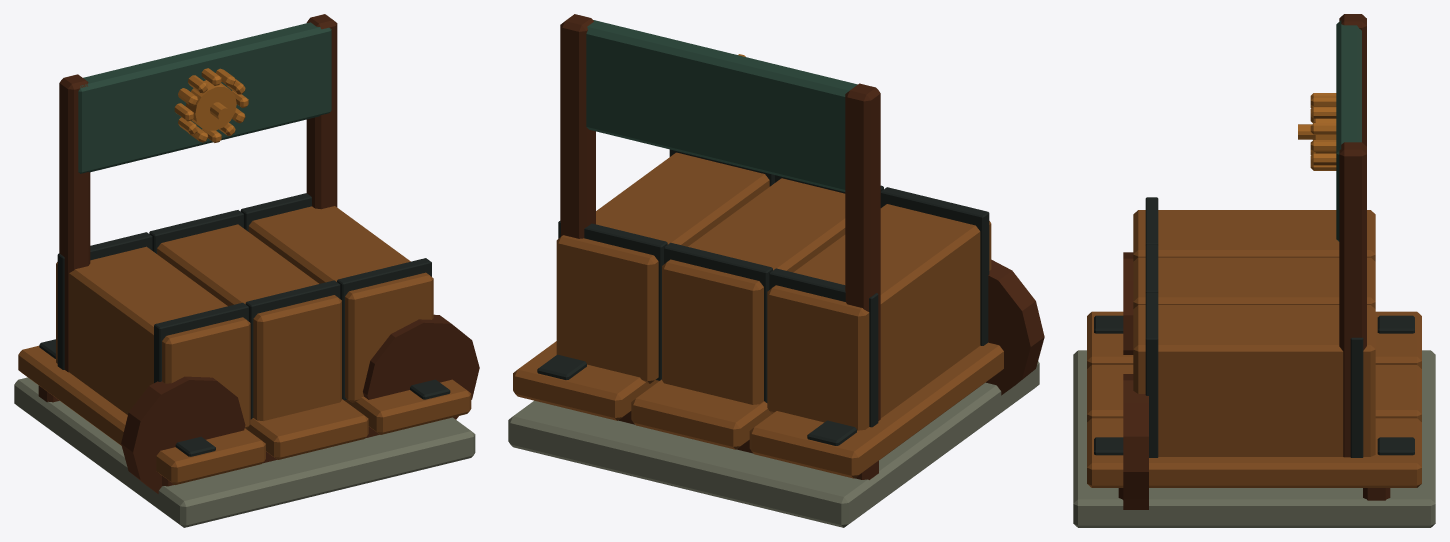
Rendered from depot.glb.
The picture shows the model from 3 angles, left to right: view 1: azimuth 30°, elevation 25°; view 2: azimuth 150°, elevation 25°; view 3: azimuth 270°, elevation 25°; orthographic projection. The views are drawn at different scales.
Parts seen in each view (by area): view 1: depot_body, Hub.006; view 2: depot_body; view 3: depot_body, Hub.006.
Part boxes in pixels (x1,y1,x2,y2): depot_body: (14,14,479,527); Hub.006: (174,68,248,142); depot_body: (508,14,1044,527); depot_body: (1073,14,1435,527); Hub.006: (1298,93,1336,170).
Size of the model in its own units: 2.16 by 2.08 by 1.84.
